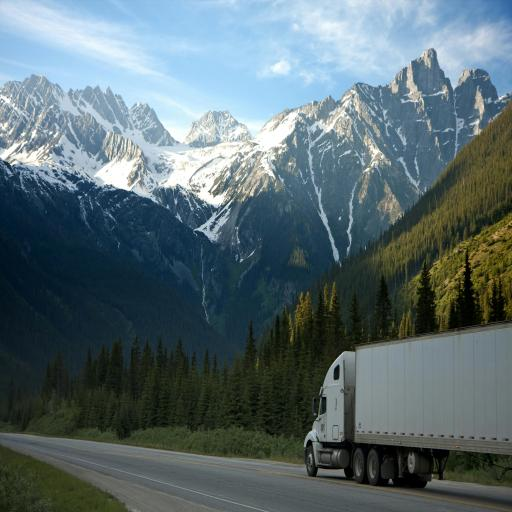truck: (303, 319, 511, 488)
